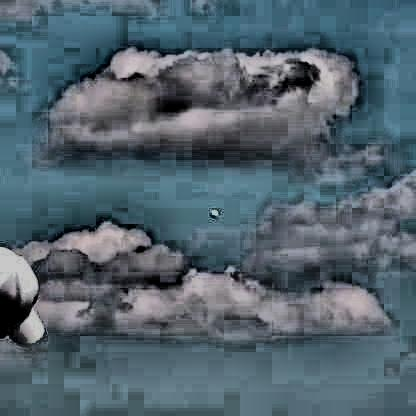golfball: (206, 206, 215, 214)
